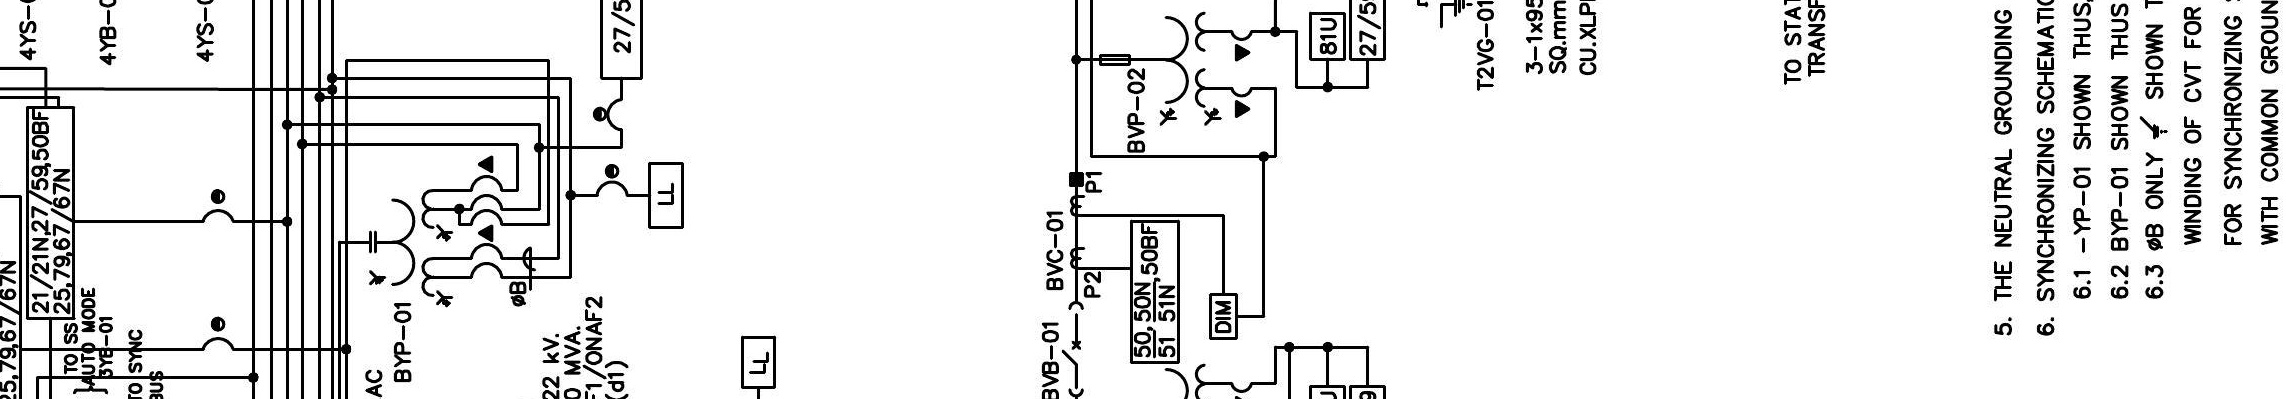115_cvt_3p: (369, 188, 455, 309)
22_breaker: (1061, 301, 1085, 398)
22_vt_3p: (1098, 10, 1254, 127)
DIM: (1209, 293, 1238, 341)
LL: (647, 162, 685, 229), (741, 335, 777, 389)
